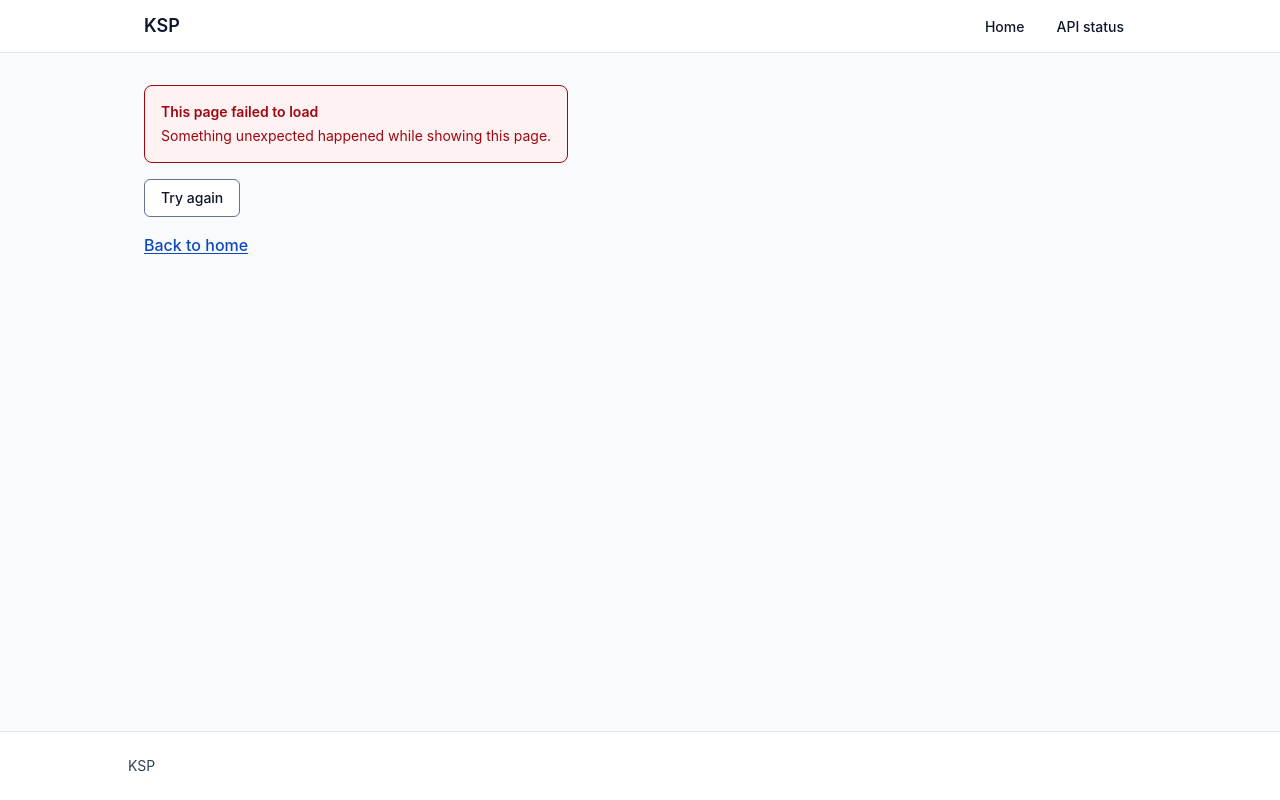
Test case: route error boundary › recovers when the visitor retries and the page now works
Click the button "Try again": {"x": 192, "y": 198} left=144, top=179, right=240, bottom=217
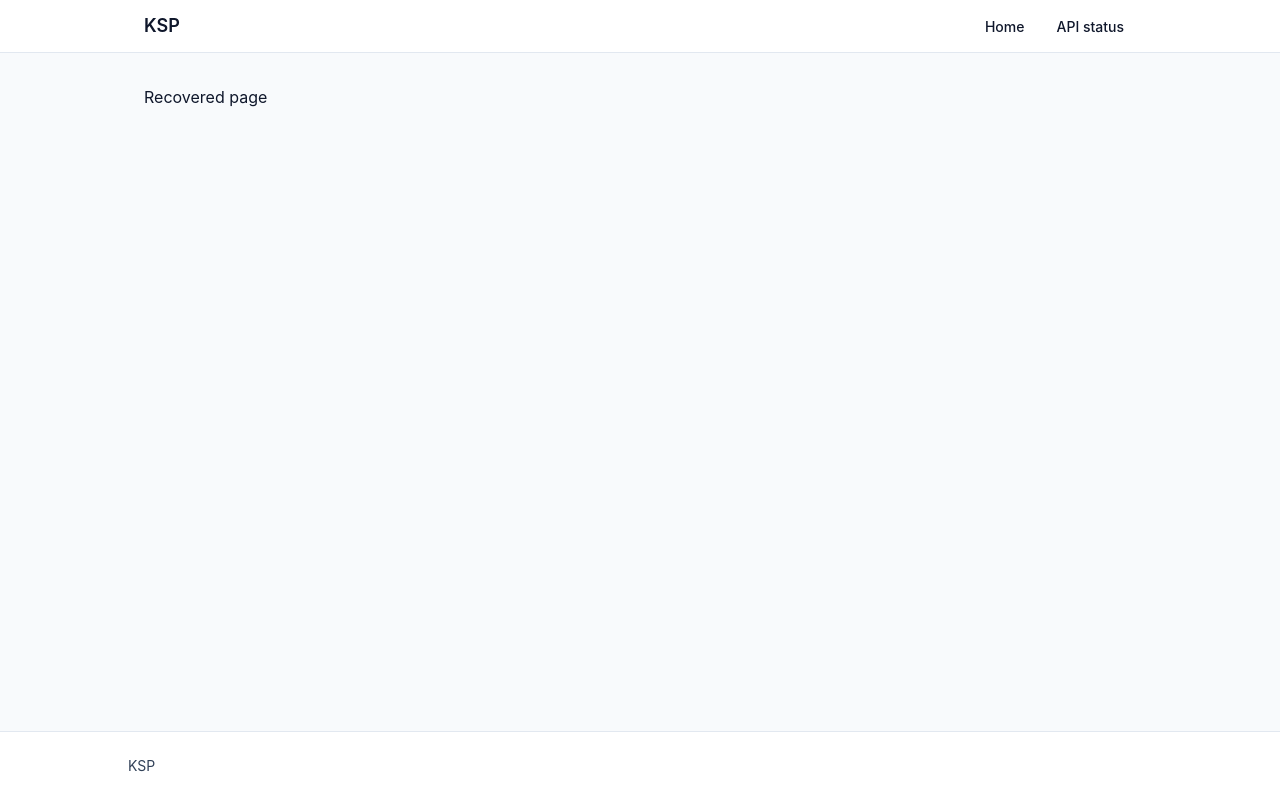
Expected: the heading "Recovered page" is shown, left=144, top=87, right=267, bottom=107
Expected: the message "This page failed to load Something unexpected happened while showing this page." is gone
